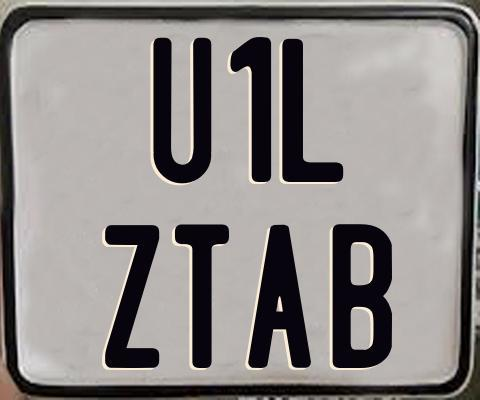1: (227, 34, 269, 182)
A: (245, 225, 309, 372)
B: (332, 223, 395, 368)
L: (280, 39, 345, 186)
T: (175, 222, 235, 370)
U: (150, 35, 209, 181)
Z: (103, 225, 159, 372)
